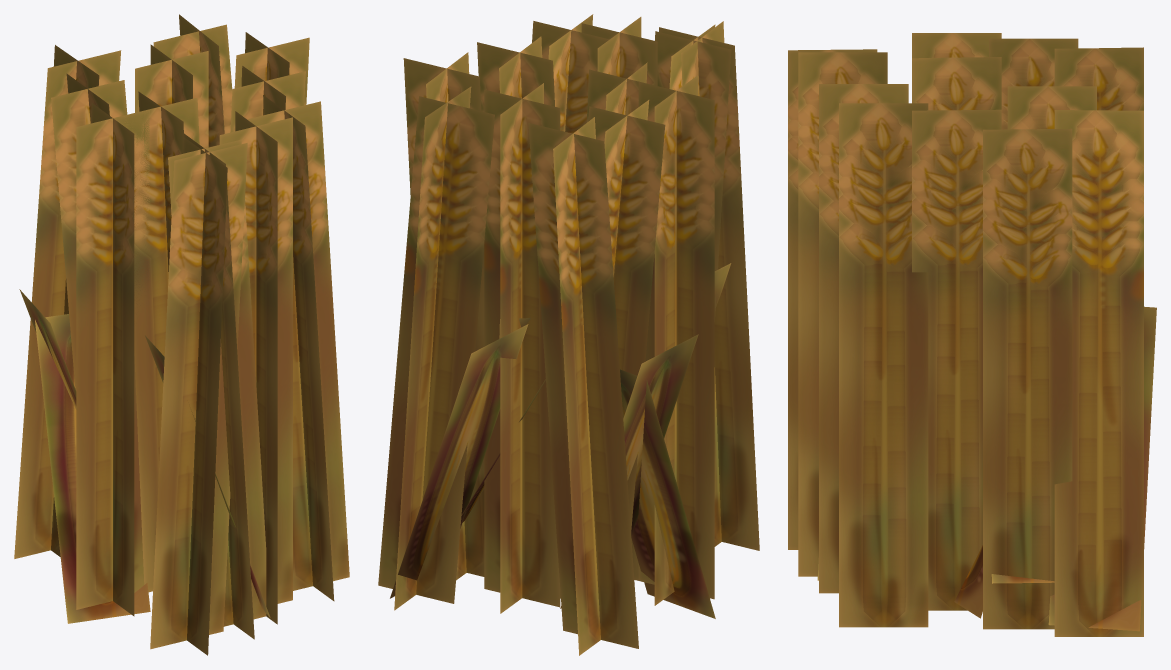
Rendered from wheat_1.glb.
The picture shows the model from 3 angles, left to right: view 1: azimuth 30°, elevation 25°; view 2: azimuth 150°, elevation 25°; view 3: azimuth 270°, elevation 25°; orthographic projection. The views are drawn at different scales.
Visible parts, largest first — view 1: BunchOfWheat1_Wheat2_low10_lambert3_0; view 2: BunchOfWheat1_Wheat2_low10_lambert3_0; view 3: BunchOfWheat1_Wheat2_low10_lambert3_0.
Part boxes in pixels (<box>): BunchOfWheat1_Wheat2_low10_lambert3_0: <box>14,14,349,655</box>; BunchOfWheat1_Wheat2_low10_lambert3_0: <box>378,14,759,655</box>; BunchOfWheat1_Wheat2_low10_lambert3_0: <box>788,33,1156,636</box>.
Size of the model in its own units: 0.4656 by 0.8164 by 0.5178.
Materials: 1 (1 with a texture image).
